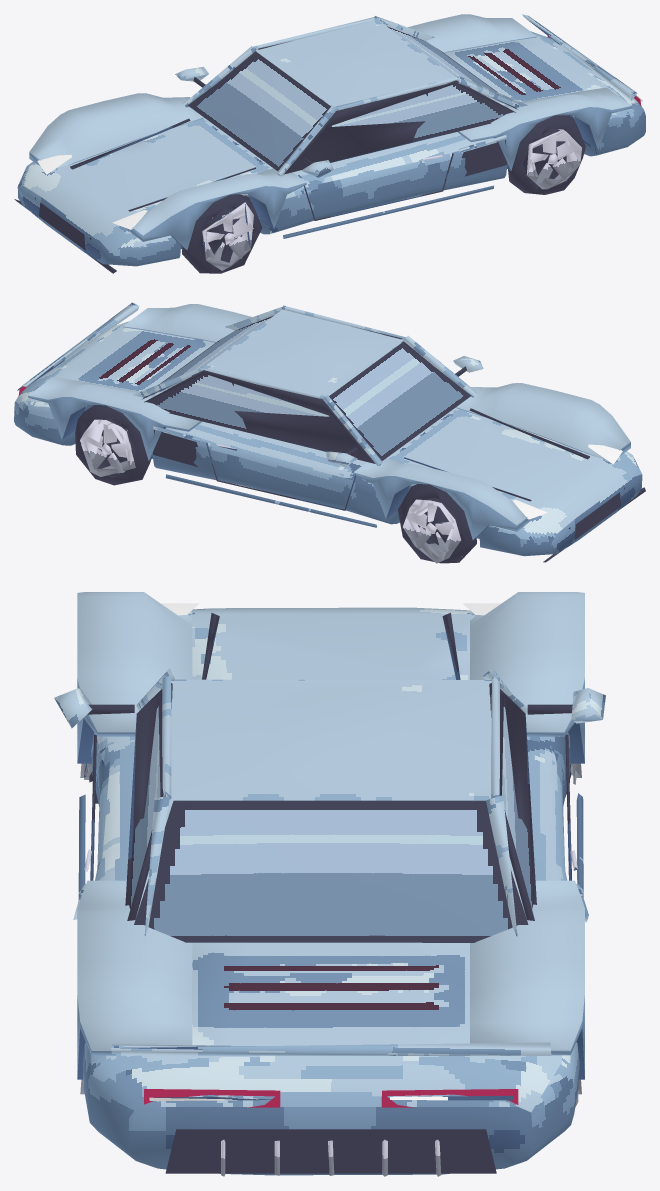
3 views of the same model, one above another, from view 1: azimuth 30°, elevation 25°; view 2: azimuth 150°, elevation 25°; view 3: azimuth 270°, elevation 25° (orthographic). The views are drawn at different scales.
Parts seen in each view (by area): view 1: Body_static, Wheel_RL_tire_hub, Wheel_FL_tire_hub; view 2: Body_static, Wheel_RR_tire_hub, Wheel_FR_tire_hub; view 3: Body_static.
Part boxes in pixels (bbox=[...]): Body_static: bbox=[14, 14, 645, 273]; Wheel_RL_tire_hub: bbox=[508, 115, 585, 194]; Wheel_FL_tire_hub: bbox=[182, 194, 262, 273]; Body_static: bbox=[14, 302, 645, 562]; Wheel_RR_tire_hub: bbox=[75, 405, 150, 485]; Wheel_FR_tire_hub: bbox=[398, 484, 476, 563]; Body_static: bbox=[54, 592, 605, 1176].
Size of the model in its own units: 81.02 by 18.61 by 35.93.
Materials: 1 (1 with a texture image).
